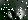person: (18, 11, 25, 20), (9, 9, 13, 20)
